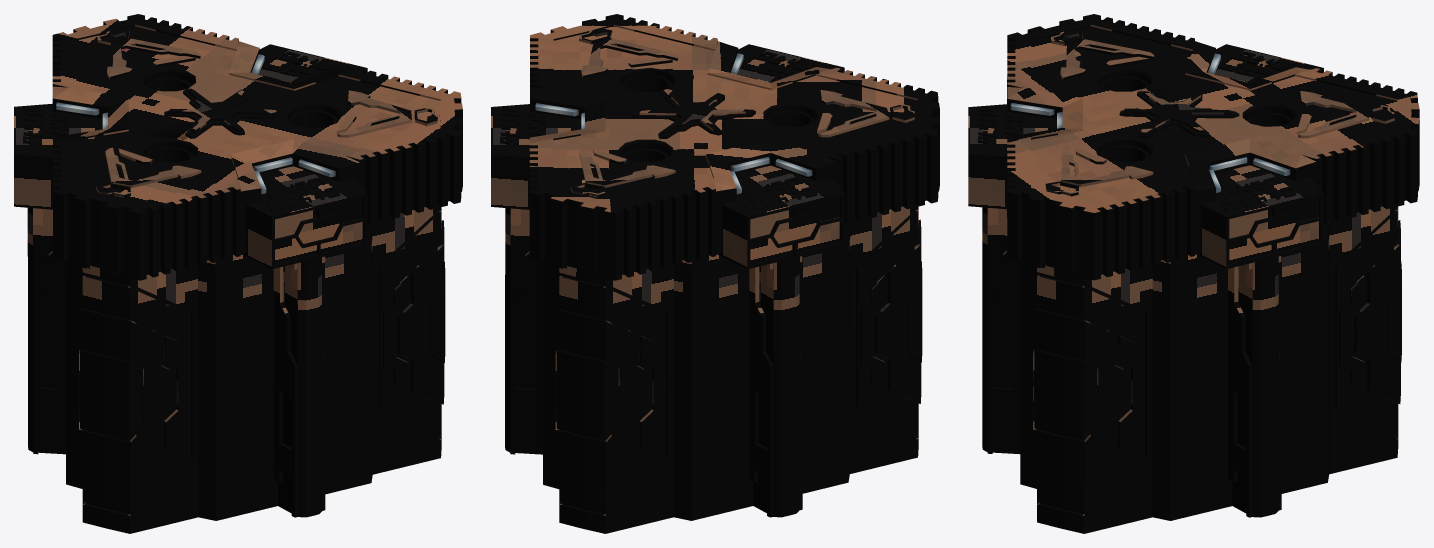
Rendered from zpmhub.obj.
3 views of the same model, side by side, from view 1: azimuth 30°, elevation 25°; view 2: azimuth 150°, elevation 25°; view 3: azimuth 270°, elevation 25° (orthographic).
Visible parts, largest first — view 1: pg_zpm_hub.001; view 2: pg_zpm_hub.001; view 3: pg_zpm_hub.001.
Part boxes in pixels (x1,y1,x2,y2): pg_zpm_hub.001: [14, 14, 462, 533]; pg_zpm_hub.001: [491, 14, 939, 533]; pg_zpm_hub.001: [968, 14, 1419, 533].
Size of the model in its own units: 19 by 14.93 by 18.19.
